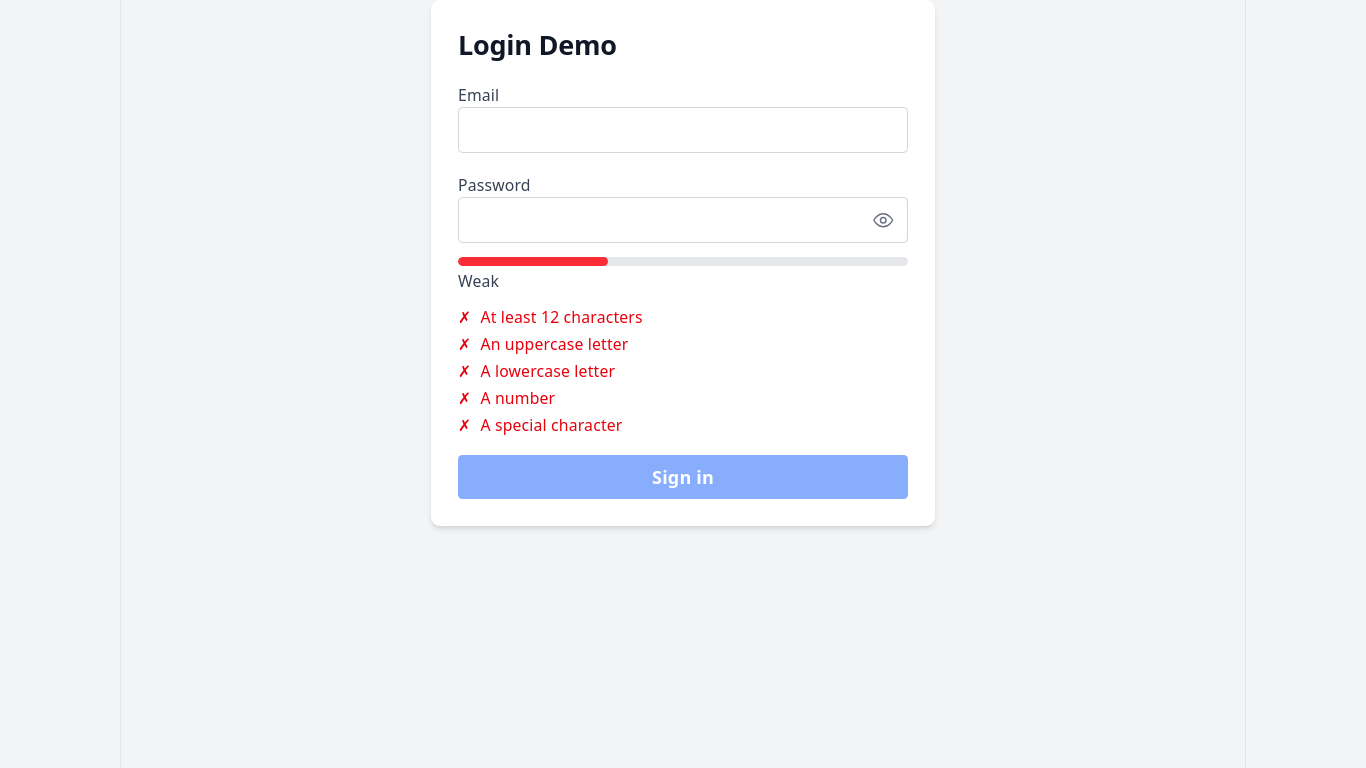
Scenario: LoginDemo › login › shows an invalid credentials error for any other email
The width and height of the screenshot is (1366, 768).
In the field labelled "Email": (683, 130) 458,107 -> 908,153, type "other@example.com"
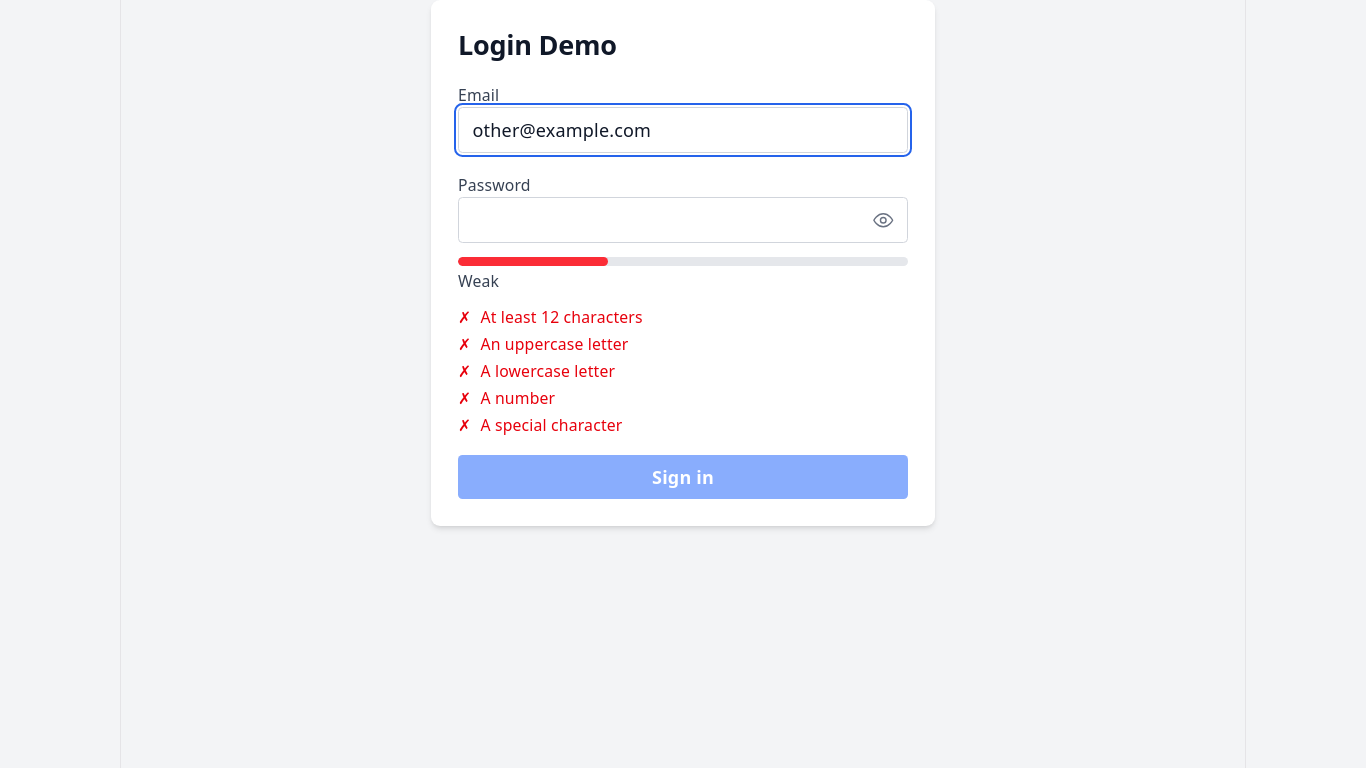
In the password field named "Password": (683, 220) 458,197 -> 908,243, type "MyS3cure!Passw0rd"
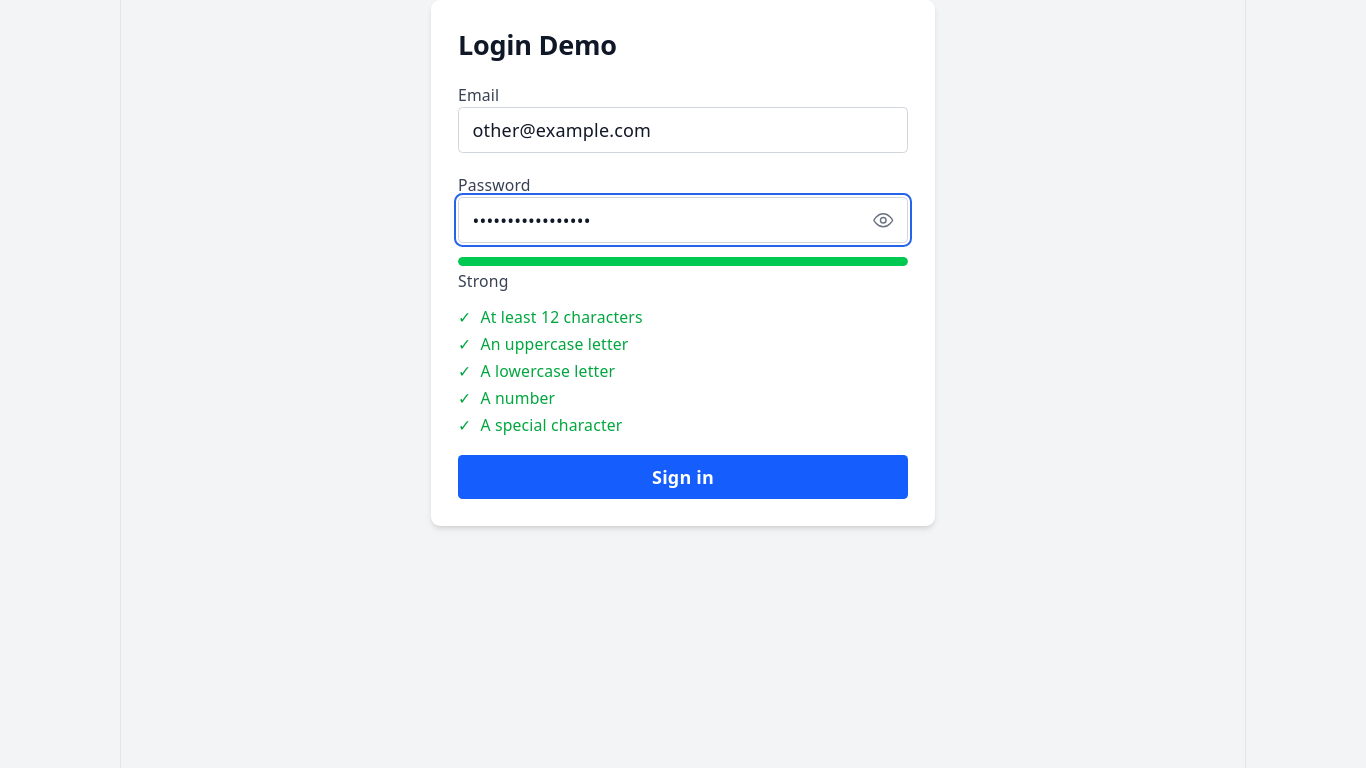
Click the button "Sign in": (683, 477) 458,455 -> 908,499
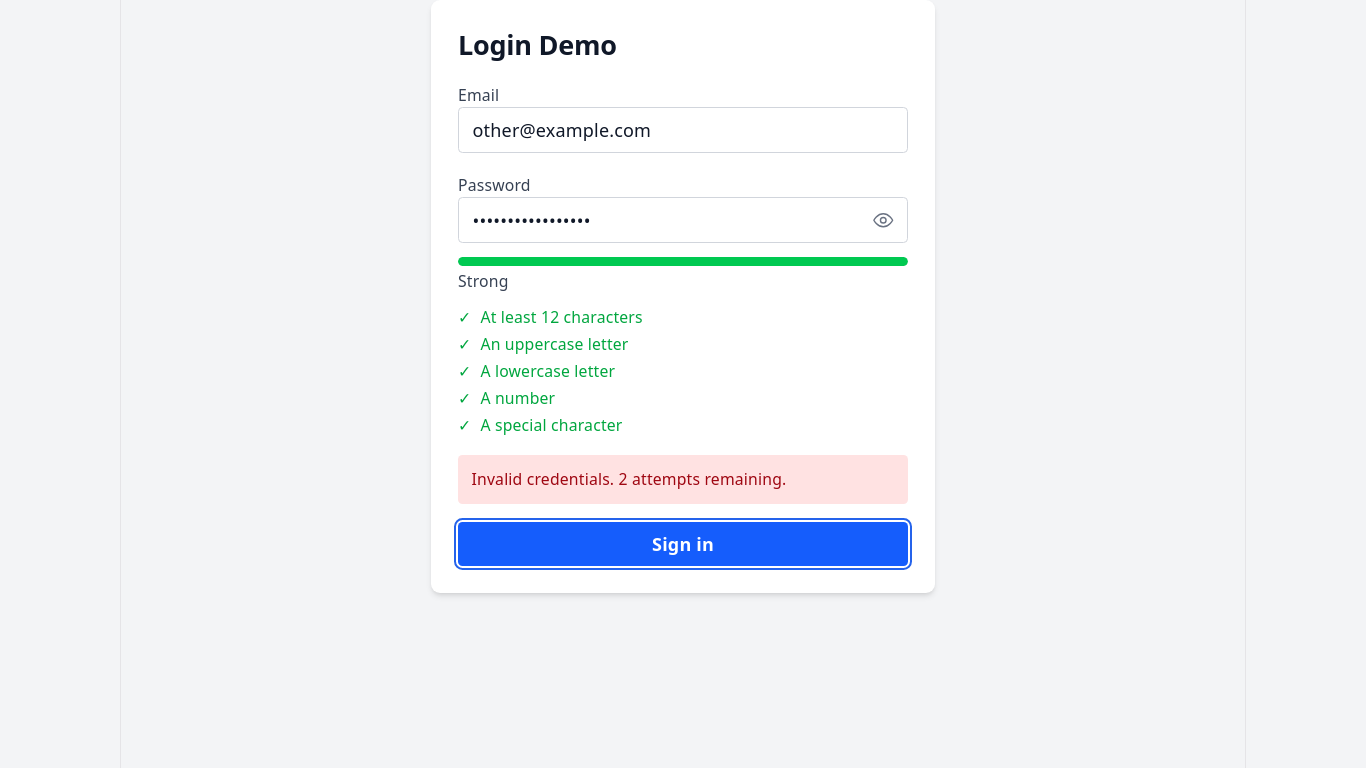
Expected: the message shows "Invalid credentials", 472,468 -> 618,490
